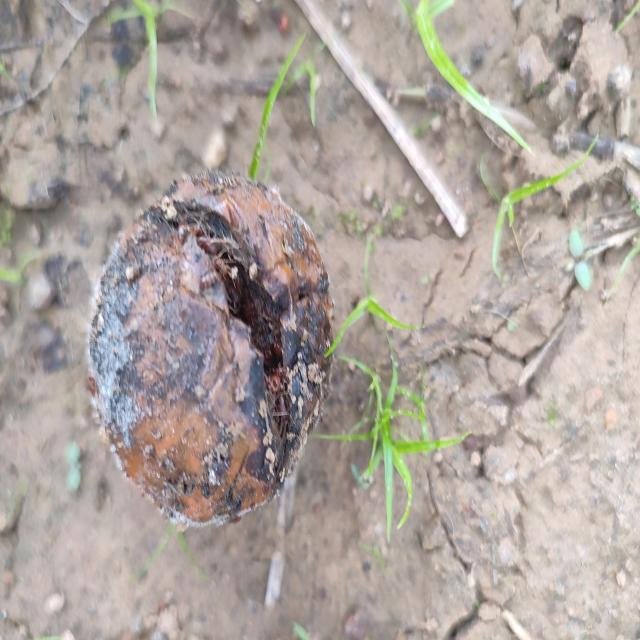damaged: (85, 170, 336, 531)
